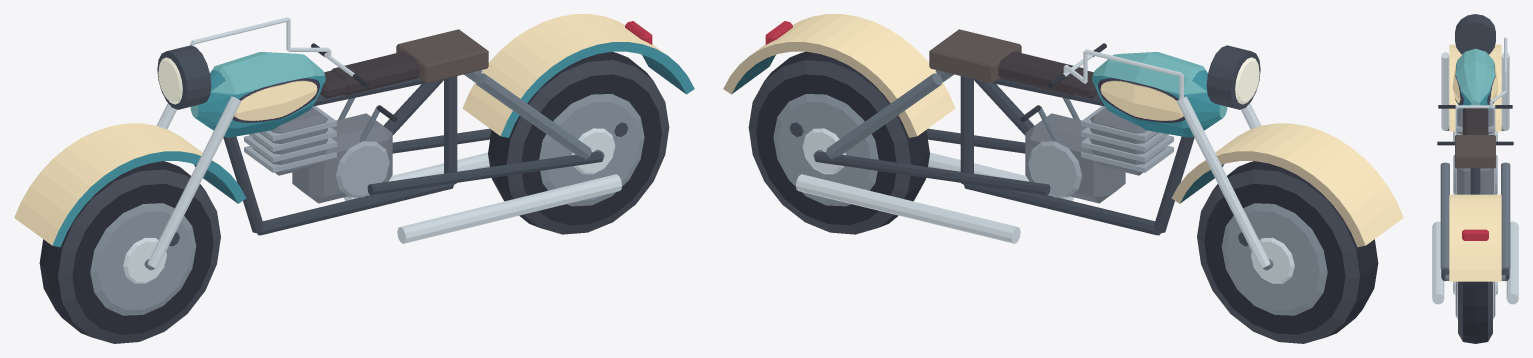
3 renders of one model, left to right at view 1: azimuth 30°, elevation 25°; view 2: azimuth 150°, elevation 25°; view 3: azimuth 270°, elevation 25°, orthographic. The views are drawn at different scales.
Visible parts, largest first — view 1: Body_static, Wheel_F_tire_hub, Wheel_R_tire_hub; view 2: Body_static, Wheel_F_tire_hub, Wheel_R_tire_hub; view 3: Body_static, Wheel_R_tire_hub.
Boxes of the visible parts, x1,y1,x2,y2 form: Body_static: (14,14,694,270); Wheel_F_tire_hub: (39,161,220,343); Wheel_R_tire_hub: (488,51,669,234); Body_static: (723,14,1403,270); Wheel_F_tire_hub: (1197,161,1378,343); Wheel_R_tire_hub: (748,51,929,234); Body_static: (1432,14,1518,304); Wheel_R_tire_hub: (1453,281,1497,343).
Bounding box in the file's own units: 55.84 × 22.78 × 9.5.
Materials: 1 (1 with a texture image).
